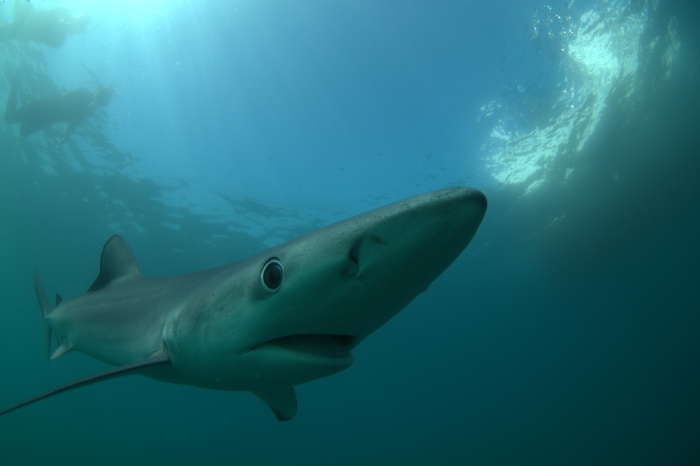Azul: (1, 171, 497, 430)
